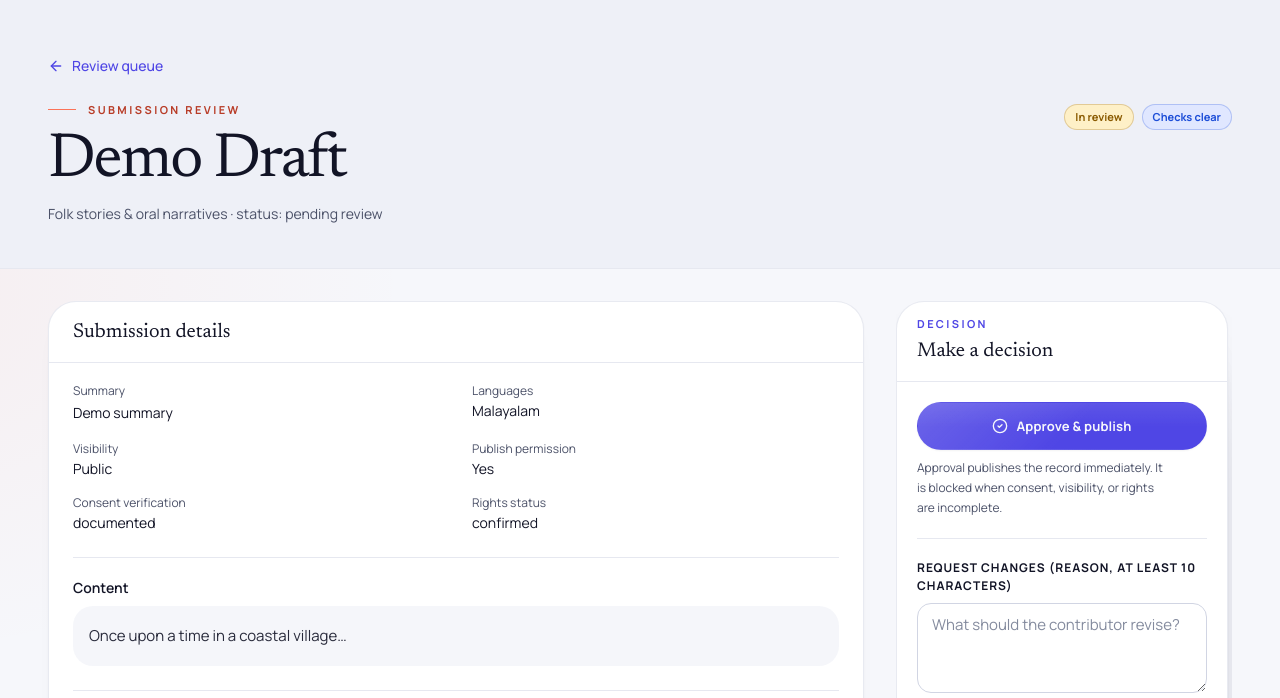
Test: ModerationSubmissionPage › surfaces publish blockers from a NOT_PUBLISHABLE 409
Click the button "Approve & publish": (1062, 426) [917,402,1207,450]
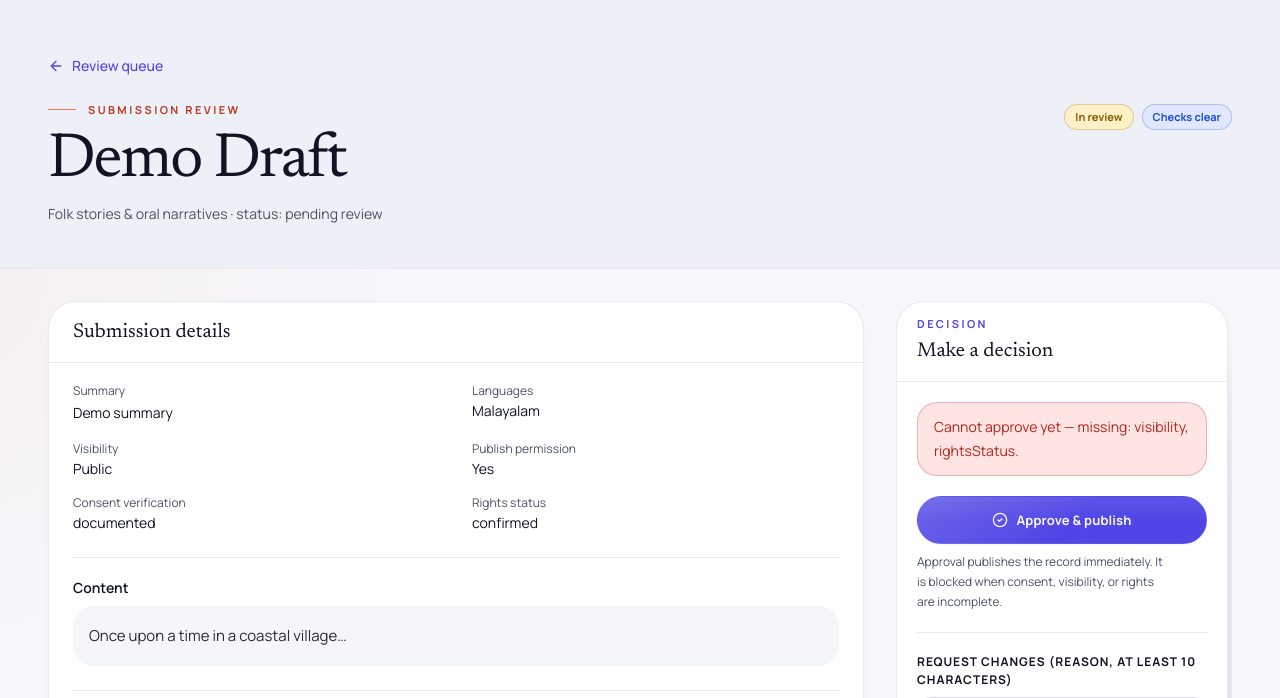
Expected: the message shows "visibility", [934,418,1189,460]
Expected: the message shows "rightsStatus", [934,418,1189,460]
